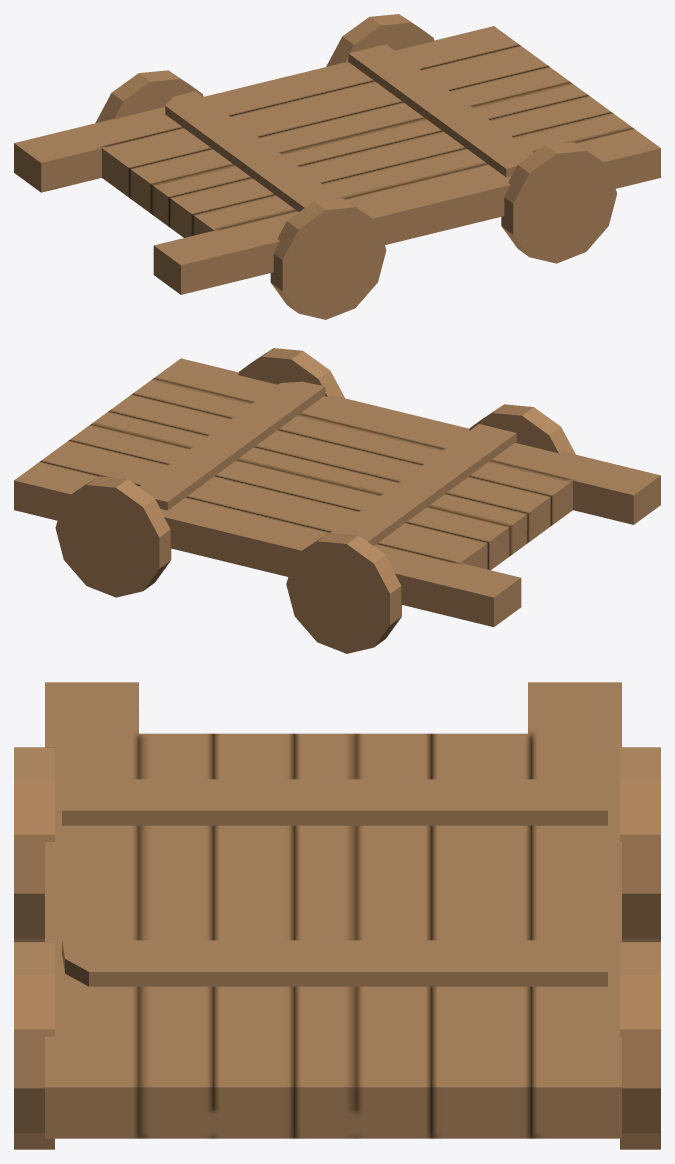
Rendered from Ballista Cart 1.fbx.
3 views of the same model, one above another, from view 1: azimuth 30°, elevation 25°; view 2: azimuth 150°, elevation 25°; view 3: azimuth 270°, elevation 25° (orthographic). The views are drawn at different scales.
Visible parts, largest first — view 1: Ballista_Cart_1; view 2: Ballista_Cart_1; view 3: Ballista_Cart_1.
Part boxes in pixels (x1,y1,x2,y2): Ballista_Cart_1: (14, 14, 660, 319); Ballista_Cart_1: (14, 348, 660, 653); Ballista_Cart_1: (14, 682, 660, 1149).
Bounding box in the file's own units: 520 × 114 × 351.
Materials: 1 (1 with a texture image).
